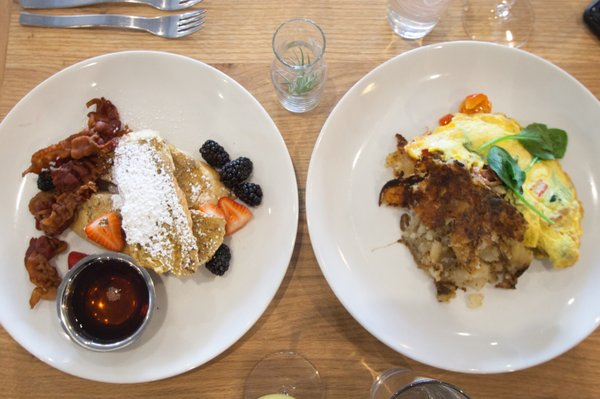pizza: (386, 0, 445, 41)
salad: (369, 368, 470, 399)
sushi: (56, 252, 159, 353)
